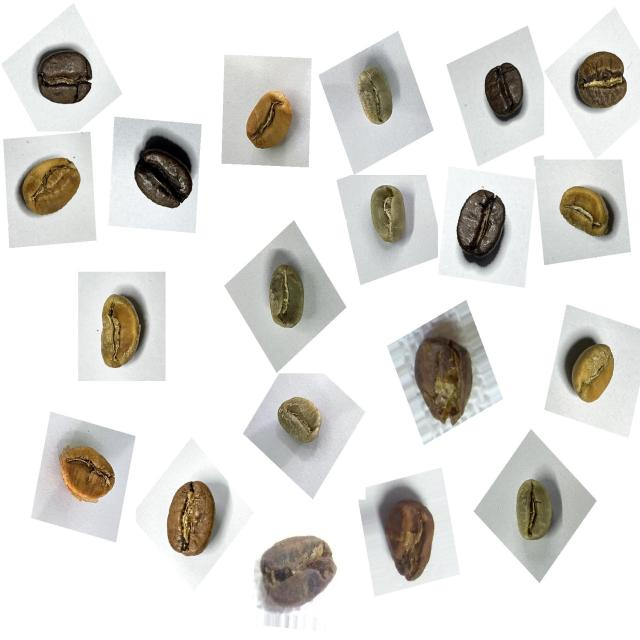bad: (402, 322, 484, 436), (255, 518, 348, 618), (370, 484, 445, 591)
dark: (126, 133, 203, 228), (448, 177, 521, 273), (28, 40, 103, 121), (474, 50, 535, 129)
green: (499, 468, 566, 555), (254, 255, 317, 341), (356, 175, 418, 255), (344, 58, 404, 138), (269, 387, 331, 457)
light: (87, 286, 158, 383), (49, 430, 126, 516), (557, 327, 627, 414), (236, 77, 303, 162), (548, 176, 620, 255)
medium: (153, 472, 230, 572), (9, 144, 89, 231), (566, 43, 637, 124)
